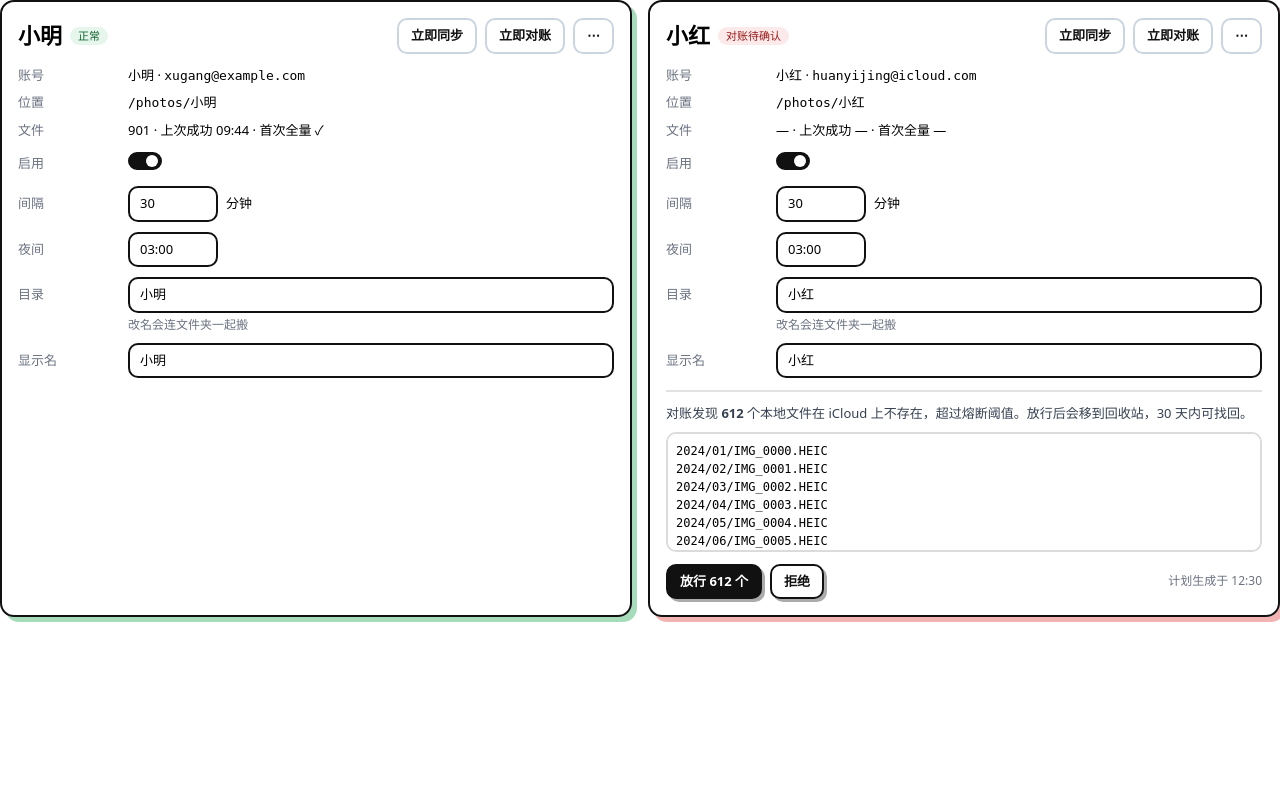
Test case: PlanCard › 拒绝 posts reject and the card goes away
Click the button "拒绝".
click(797, 581)  # box [770, 564, 824, 599]
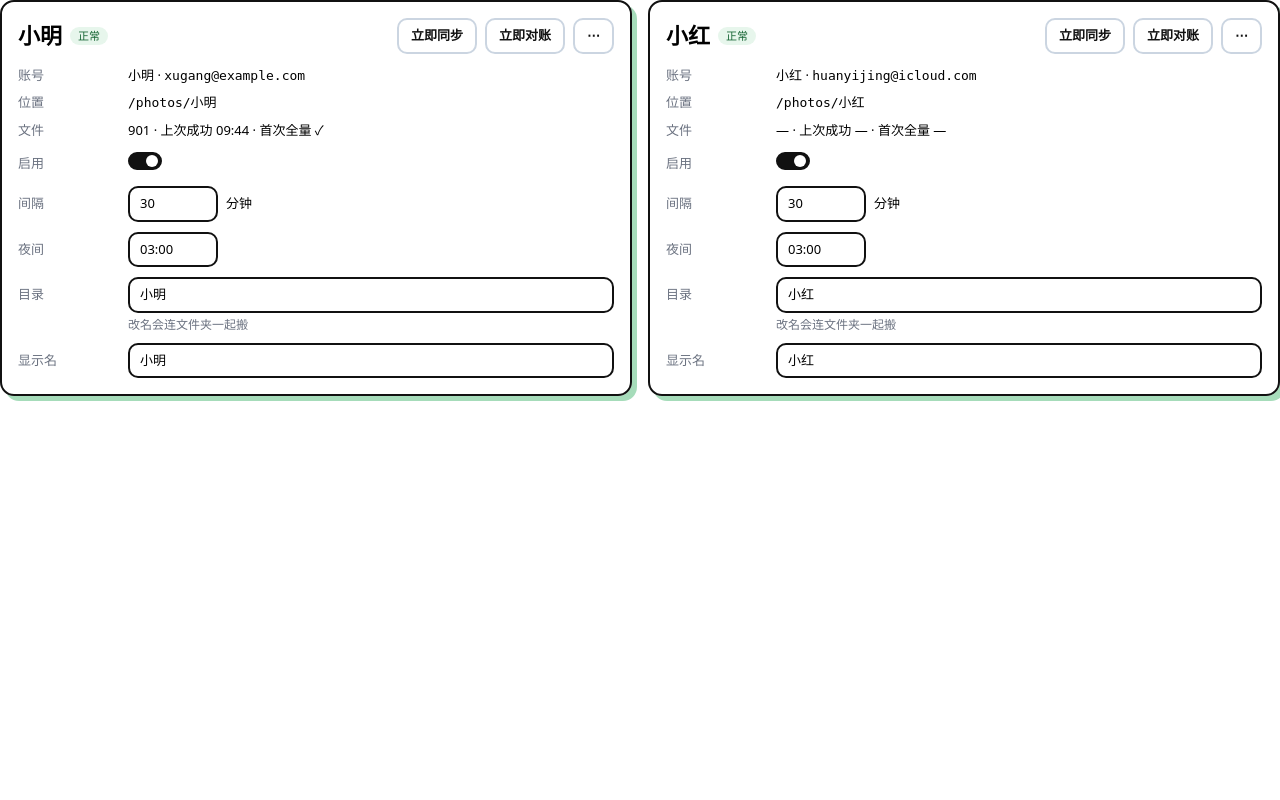
Result: the button "拒绝" is gone
